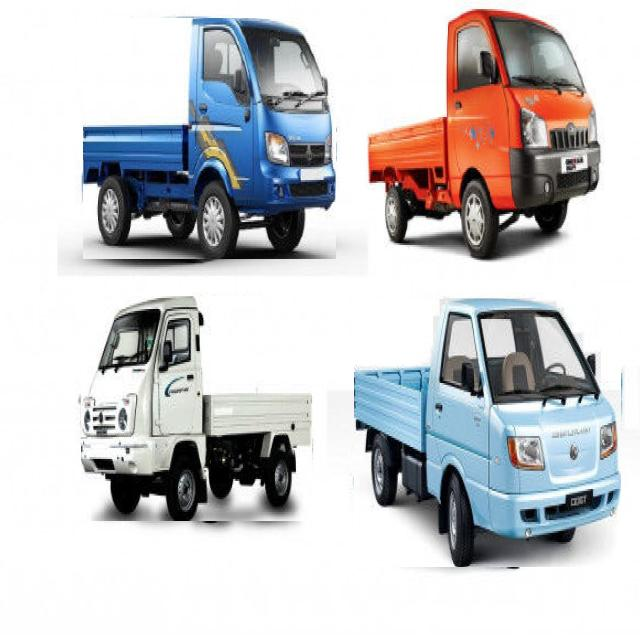truck: (354, 300, 621, 567), (83, 18, 335, 259), (369, 12, 599, 256), (81, 296, 311, 521)
